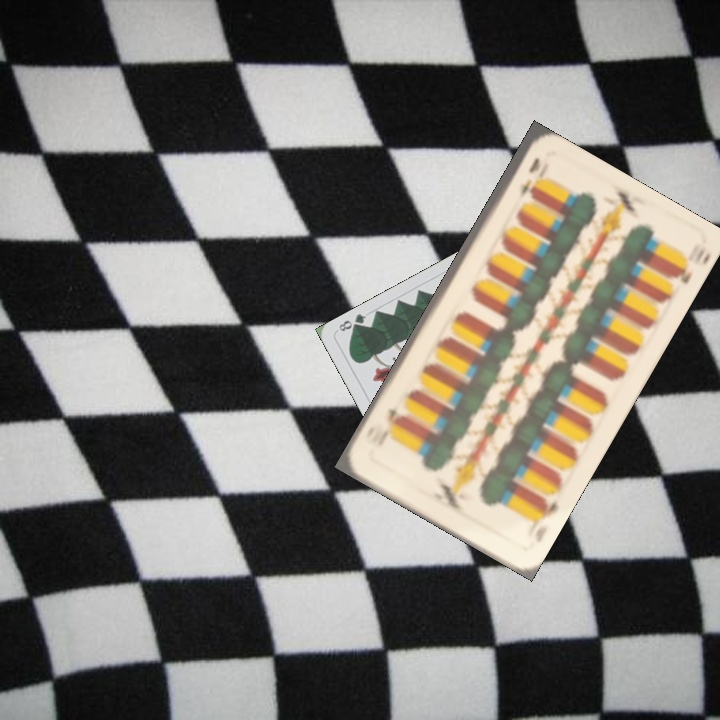E10: (515, 153, 543, 201), (536, 493, 561, 524)
